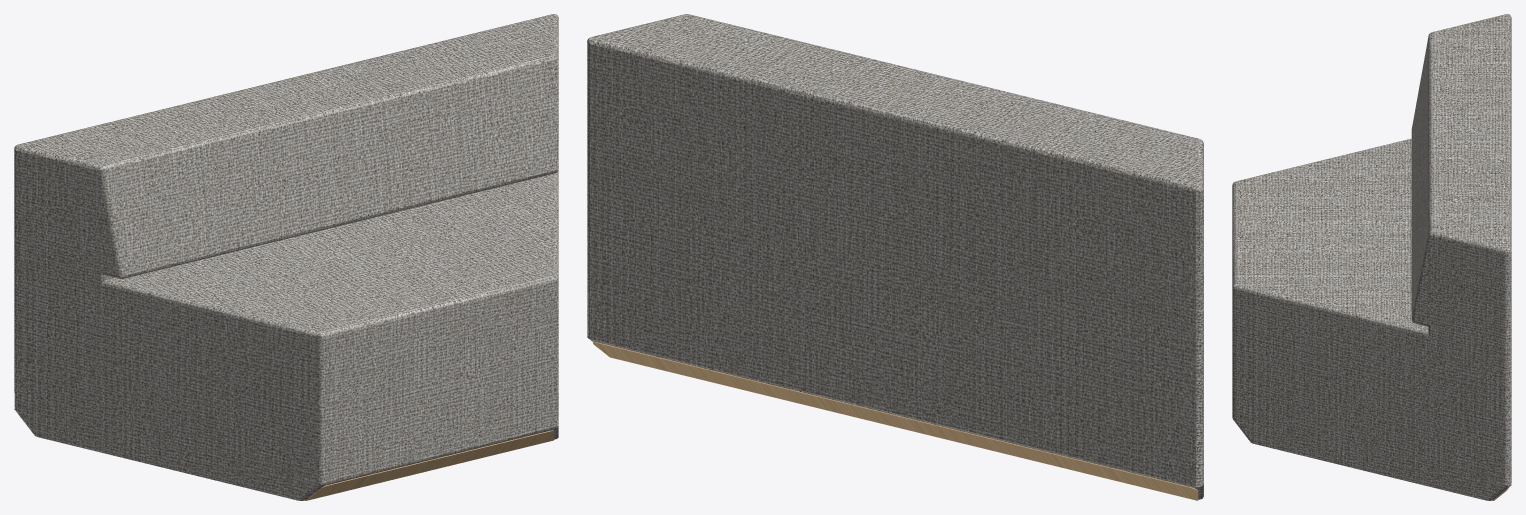
3 views of the same model, side by side, from view 1: azimuth 30°, elevation 25°; view 2: azimuth 150°, elevation 25°; view 3: azimuth 270°, elevation 25° (orthographic). The views are drawn at different scales.
Visible parts, largest first — view 1: 2, 3; view 2: 2, 4; view 3: 2.
Part boxes in pixels (box(x1,y1,x2,y2)): 2: box(14, 14, 558, 500); 3: box(305, 430, 553, 500); 2: box(587, 14, 1203, 499); 4: box(593, 342, 1198, 500); 2: box(1232, 14, 1511, 500).
Bounding box in the file's own units: 1.36 × 0.6937 × 0.6755.
Materials: 3 (2 with a texture image).
